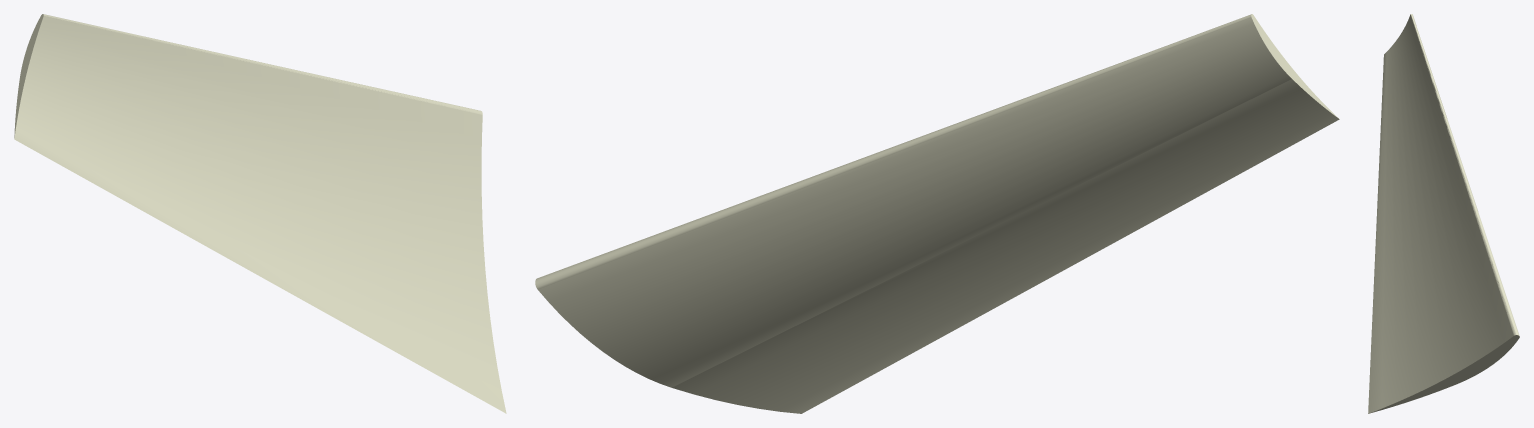
The model's file is original-36.obj.
The picture shows the model from 3 angles, left to right: view 1: azimuth 30°, elevation 25°; view 2: azimuth 150°, elevation 25°; view 3: azimuth 270°, elevation 25°; orthographic projection. The views are drawn at different scales.
Parts seen in each view (by area): view 1: Fan_Blade36/Fan_Blade/mesh1/mesh1-geometry#mesh1-geometry; view 2: Fan_Blade36/Fan_Blade/mesh1/mesh1-geometry#mesh1-geometry; view 3: Fan_Blade36/Fan_Blade/mesh1/mesh1-geometry#mesh1-geometry.
Part boxes in pixels (bbox=[...]): Fan_Blade36/Fan_Blade/mesh1/mesh1-geometry#mesh1-geometry: bbox=[14, 14, 506, 413]; Fan_Blade36/Fan_Blade/mesh1/mesh1-geometry#mesh1-geometry: bbox=[535, 14, 1339, 413]; Fan_Blade36/Fan_Blade/mesh1/mesh1-geometry#mesh1-geometry: bbox=[1368, 14, 1519, 413].
Bounding box in the file's own units: 0.2812 × 0.2205 × 0.1089.
